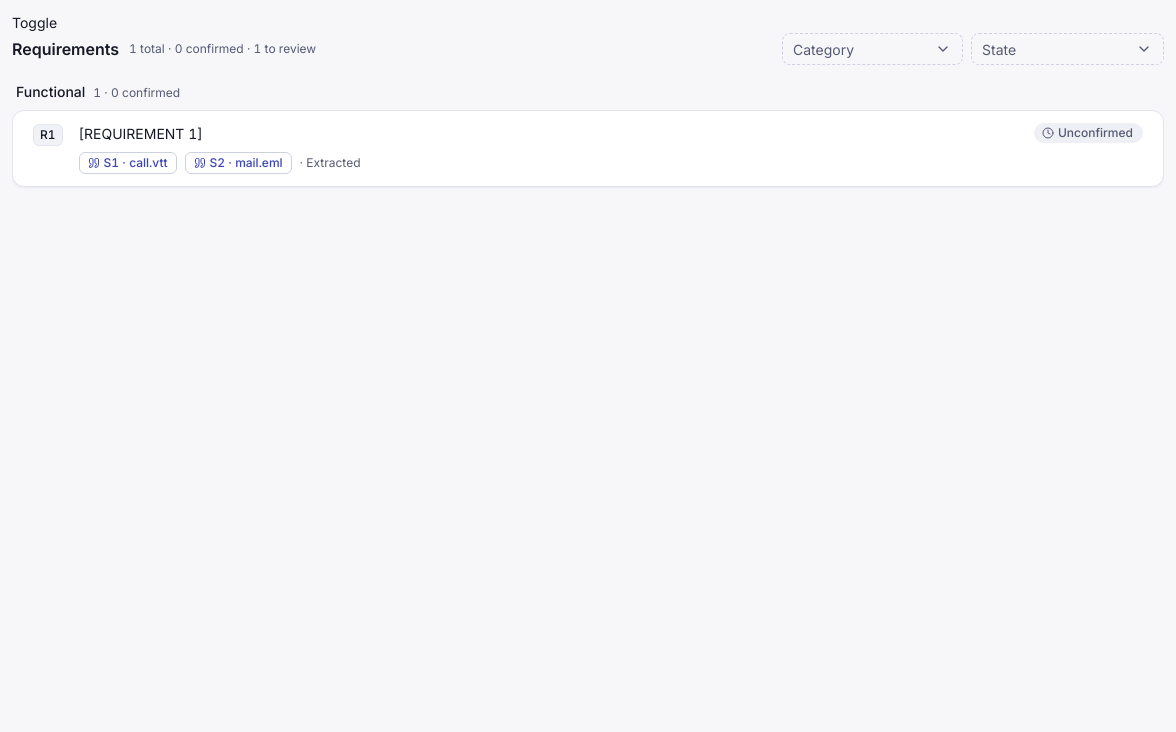
Test: Requirements list and Evidence inspector › says Loading passage… while the request is in flight
Click the button "[REQUIREMENT 1]" at [141, 134], box [79,123,1018,144]
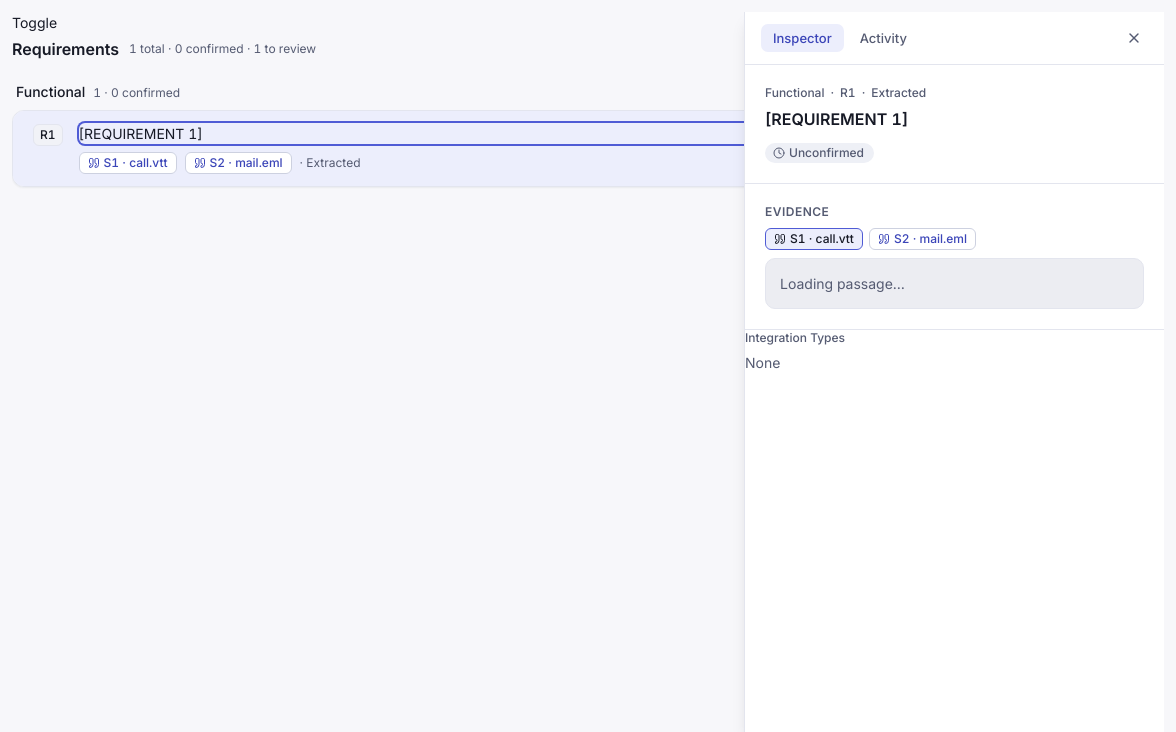
Check: the text "Loading passage…" is shown, box [780,275,905,292]
